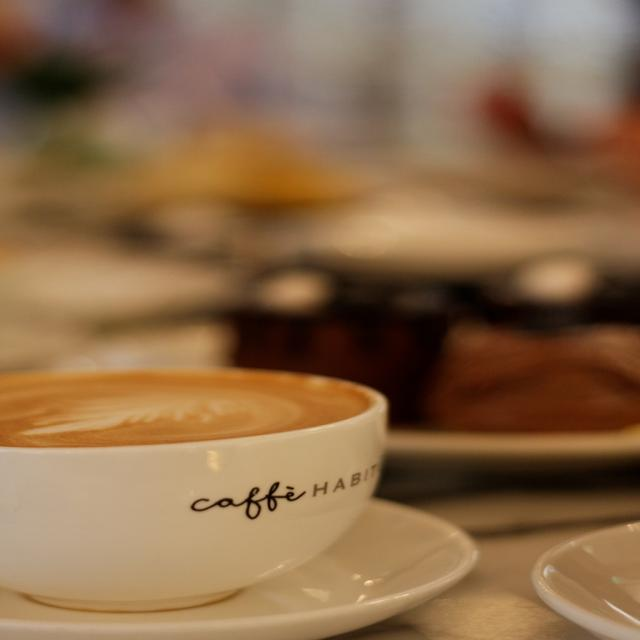Coffee: (0, 381, 397, 485)
